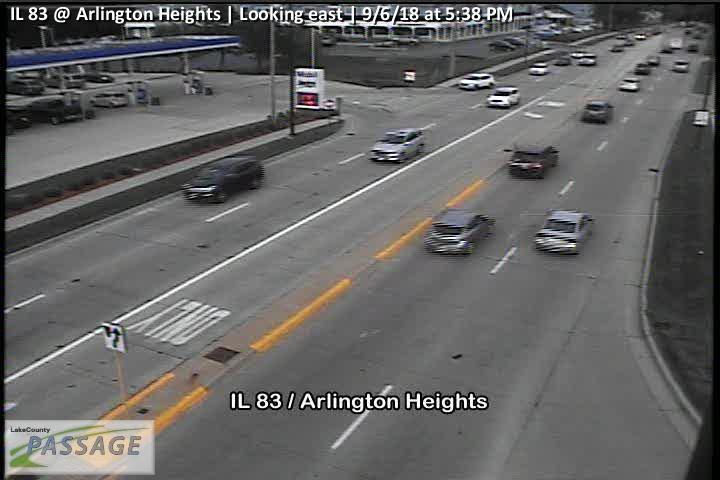SUV: (181, 157, 265, 203), (503, 144, 556, 180), (367, 129, 424, 162), (486, 87, 520, 109), (458, 73, 495, 90), (88, 92, 129, 107)
Sedan: (424, 209, 493, 256), (532, 209, 595, 255), (581, 101, 614, 124), (616, 78, 641, 91), (527, 62, 550, 76)
